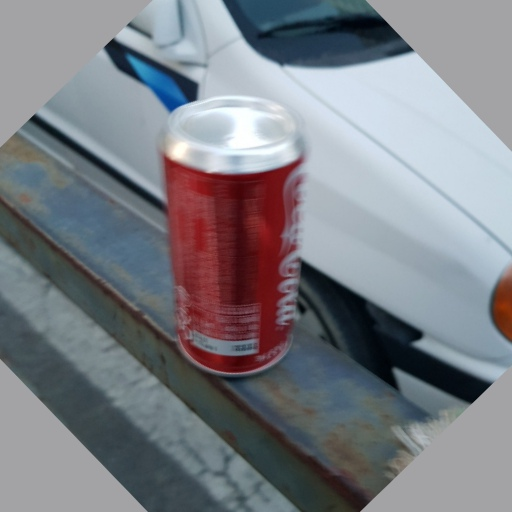Metal_0: (159, 95, 312, 376)
